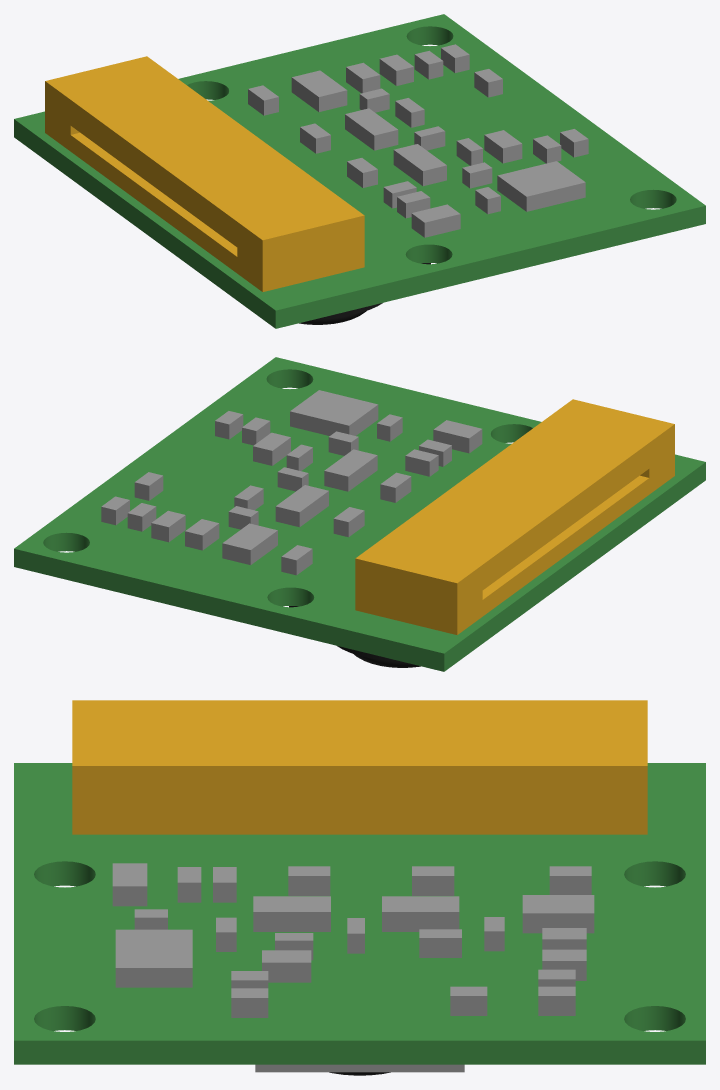
Rendered from pi-camera-rev-1.3 v4 v1.obj.
The picture shows the model from 3 angles, top to bottom: view 1: azimuth 30°, elevation 25°; view 2: azimuth 150°, elevation 25°; view 3: azimuth 270°, elevation 25°; orthographic projection. The views are drawn at different scales.
Parts seen in each view (by area): view 1: pcb, cable-input, Y1, U2, U1, U3, C1, L1, L2, C7, C13, C12 (+15 smaller); view 2: pcb, cable-input, Y1, U2, U1, U3, C1, L1, L2, C7, R4, C12 (+15 smaller); view 3: pcb, cable-input, Y1, U1, U3, U2, P5V04A, C1, L1, C13, C11, C12 (+15 smaller).
Boxes of the visible parts, left/top/right/bottom form: pcb: left=14, top=14, right=705, bottom=328; cable-input: left=45, top=56, right=364, bottom=291; Y1: left=497, top=161, right=585, bottom=211; U2: left=291, top=70, right=347, bottom=111; U1: left=393, top=144, right=446, bottom=186; U3: left=345, top=108, right=398, bottom=150; C1: left=411, top=204, right=460, bottom=237; L1: left=484, top=130, right=522, bottom=163; L2: left=379, top=54, right=413, bottom=85; C7: left=346, top=62, right=380, bottom=93; C13: left=300, top=123, right=330, bottom=153; C12: left=248, top=85, right=278, bottom=115; pcb: left=14, top=357, right=705, bottom=671; cable-input: left=355, top=399, right=674, bottom=634; Y1: left=290, top=390, right=378, bottom=435; U2: left=222, top=523, right=277, bottom=565; U1: left=324, top=449, right=377, bottom=491; U3: left=275, top=485, right=328, bottom=527; C1: left=433, top=420, right=482, bottom=453; L1: left=253, top=432, right=290, bottom=465; L2: left=151, top=510, right=185, bottom=542; C7: left=185, top=519, right=219, bottom=550; R4: left=405, top=449, right=438, bottom=476; C12: left=281, top=545, right=312, bottom=575; pcb: left=14, top=763, right=705, bottom=1064; cable-input: left=72, top=700, right=647, bottom=834; Y1: left=115, top=929, right=192, bottom=987; U1: left=253, top=896, right=330, bottom=931; U3: left=382, top=896, right=459, bottom=931; U2: left=522, top=895, right=594, bottom=933; P5V04A: left=255, top=1064, right=464, bottom=1072; C1: left=112, top=863, right=147, bottom=906; L1: left=262, top=950, right=311, bottom=982; C13: left=412, top=866, right=454, bottom=895; C11: left=288, top=866, right=330, bottom=895; C12: left=549, top=866, right=591, bottom=894.
Bounding box in the file's own units: 2.38 × 0.972 × 2.51.
